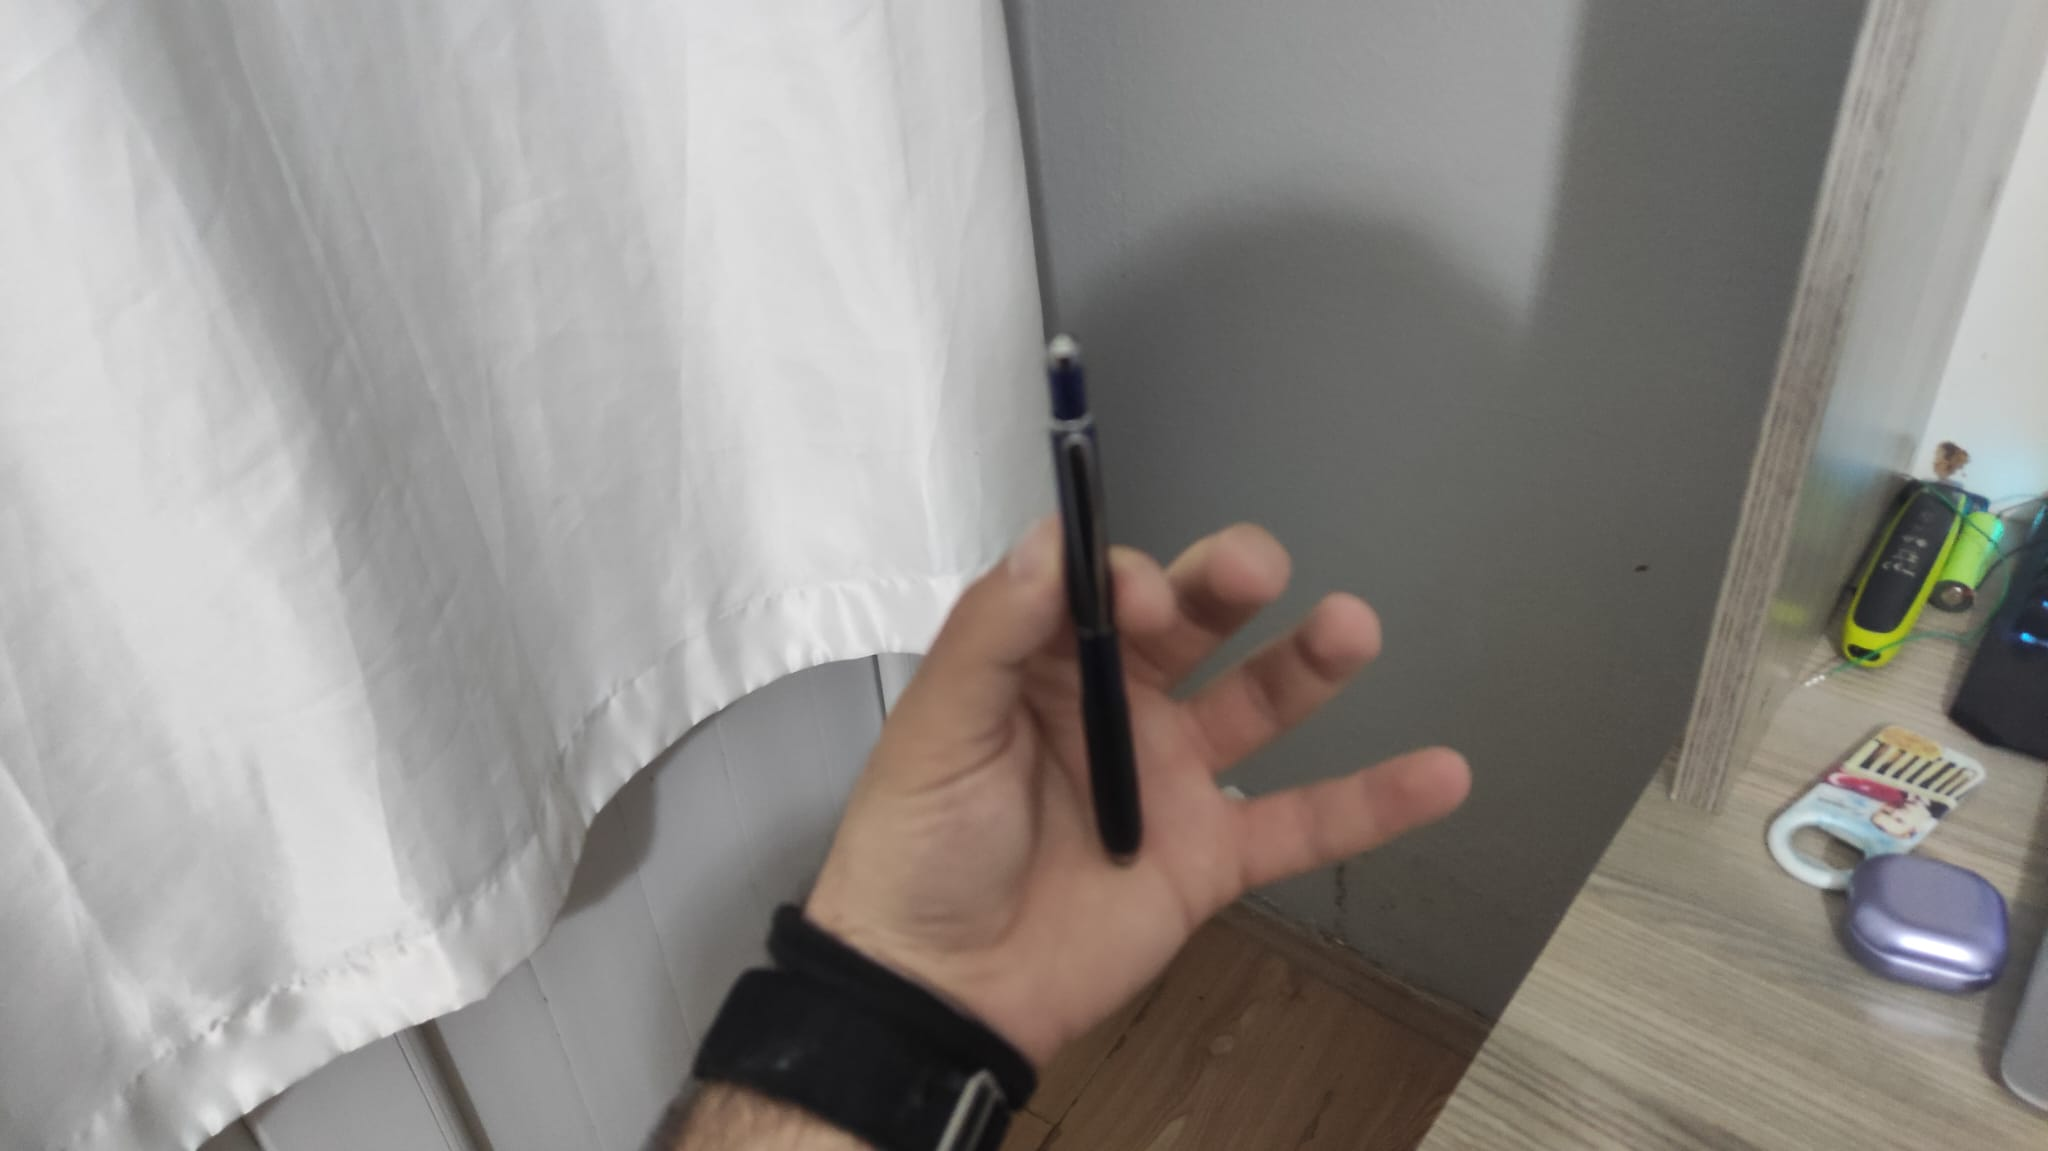kalem: (1037, 326, 1139, 870)
